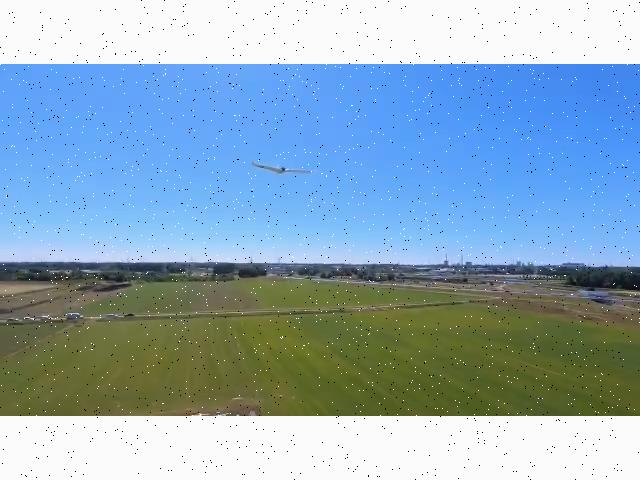Anti-Drone: (245, 150, 323, 190)
